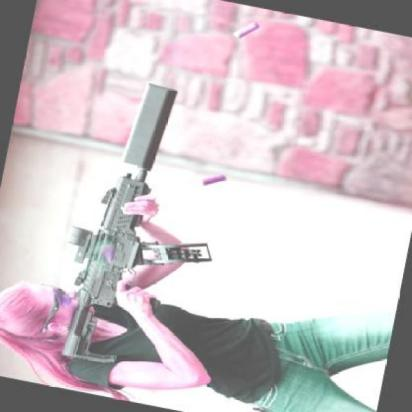Gun: (56, 82, 210, 365)
